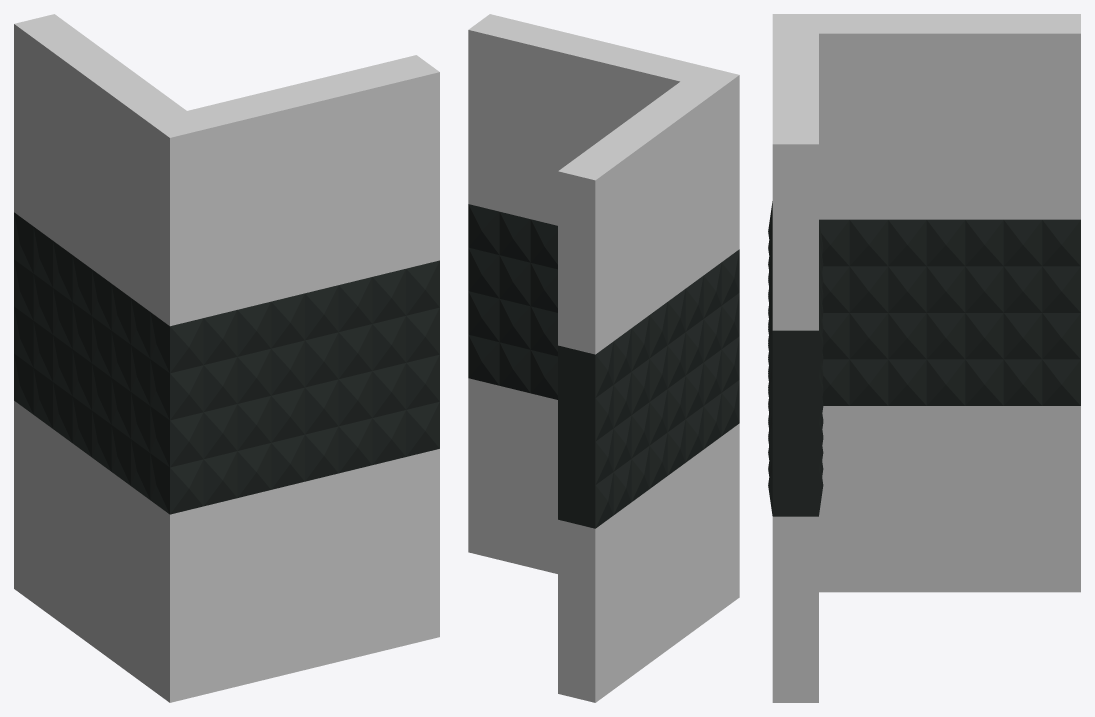
The model's file is AcousticPanelCorner.glb.
3 renders of one model, left to right at view 1: azimuth 30°, elevation 25°; view 2: azimuth 150°, elevation 25°; view 3: azimuth 270°, elevation 25°, orthographic. The views are drawn at different scales.
Parts seen in each view (by area): view 1: wall_triPanel_corner; view 2: wall_triPanel_corner; view 3: wall_triPanel_corner.
Part boxes in pixels (bbox=[...]): wall_triPanel_corner: bbox=[14, 14, 439, 702]; wall_triPanel_corner: bbox=[468, 14, 739, 702]; wall_triPanel_corner: bbox=[768, 14, 1080, 702].
Size of what is drawn, in the model's own units: 2.03 by 4 by 2.03.
1 material, 1 textured.
